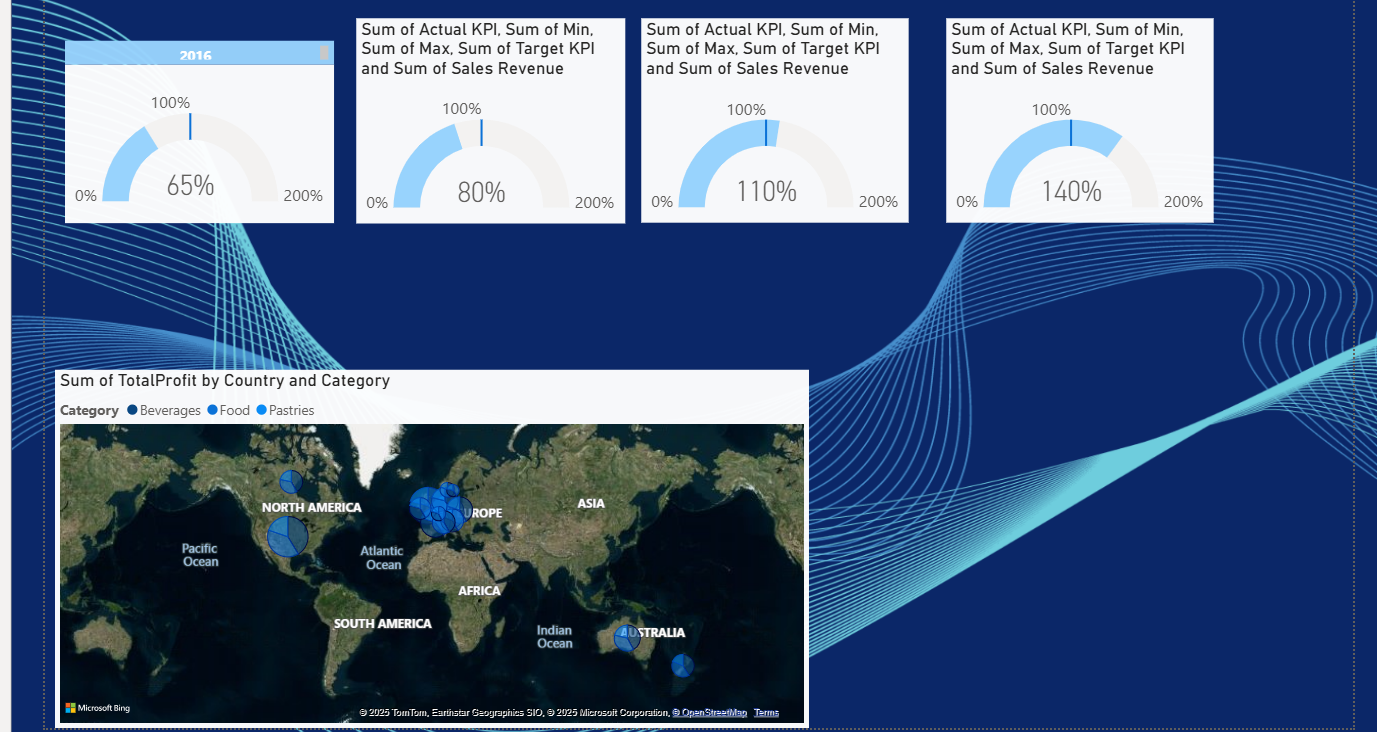

The page's visual inventory and layout, read from the dashboard file:
{"tool":"powerbi","page":{"name":"Map Charts","canvas":[1280,720],"ordinal":1},"visuals":[{"type":"map","fields":{"Category":["Countries.Country"],"Size":["Sum(Sales.TotalProfit)"],"Series":["Products.Category"]},"box":[9.6,368.8,737.6,351],"z":0},{"type":"gauge","fields":{"Y":["Sum(KPIs 2016 to 2019.Actual KPI)"],"MinValue":["Sum(KPIs 2016 to 2019.Min)"],"MaxValue":["Sum(KPIs 2016 to 2019.Max)"],"TargetValue":["Sum(KPIs 2016 to 2019.Target KPI)"]},"box":[19.6,70.9,262.8,155.2],"z":1000},{"type":"gauge","fields":{"Y":["Sum(KPIs 2016 to 2019.Actual KPI)"],"MinValue":["Sum(KPIs 2016 to 2019.Min)"],"MaxValue":["Sum(KPIs 2016 to 2019.Max)"],"TargetValue":["Sum(KPIs 2016 to 2019.Target KPI)"]},"box":[304.4,25.7,262.8,200.5],"z":2000},{"type":"gauge","fields":{"Y":["Sum(KPIs 2016 to 2019.Actual KPI)"],"MinValue":["Sum(KPIs 2016 to 2019.Min)"],"MaxValue":["Sum(KPIs 2016 to 2019.Max)"],"TargetValue":["Sum(KPIs 2016 to 2019.Target KPI)"]},"box":[582.7,26,261.9,200.2],"z":3000},{"type":"gauge","fields":{"Y":["Sum(KPIs 2016 to 2019.Actual KPI)"],"MinValue":["Sum(KPIs 2016 to 2019.Min)"],"MaxValue":["Sum(KPIs 2016 to 2019.Max)"],"TargetValue":["Sum(KPIs 2016 to 2019.Target KPI)"]},"box":[881.6,26,261.9,200.2],"z":4000},{"type":"textbox","box":[19.6,47.7,262.8,23.2],"z":5000}]}

Visuals, with their boxes in screenshot pixels (x1, y1, x2, y2):
map - Countries.Country x Sum(Sales.TotalProfit): left=60, top=366, right=799, bottom=718
gauge - Sum(KPIs 2016 to 2019.Actual KPI) x Sum(KPIs 2016 to 2019.Min): left=70, top=67, right=333, bottom=223
gauge - Sum(KPIs 2016 to 2019.Actual KPI) x Sum(KPIs 2016 to 2019.Min): left=355, top=22, right=619, bottom=223
gauge - Sum(KPIs 2016 to 2019.Actual KPI) x Sum(KPIs 2016 to 2019.Min): left=634, top=22, right=896, bottom=223
gauge - Sum(KPIs 2016 to 2019.Actual KPI) x Sum(KPIs 2016 to 2019.Min): left=934, top=22, right=1196, bottom=223
textbox: left=70, top=44, right=333, bottom=67
